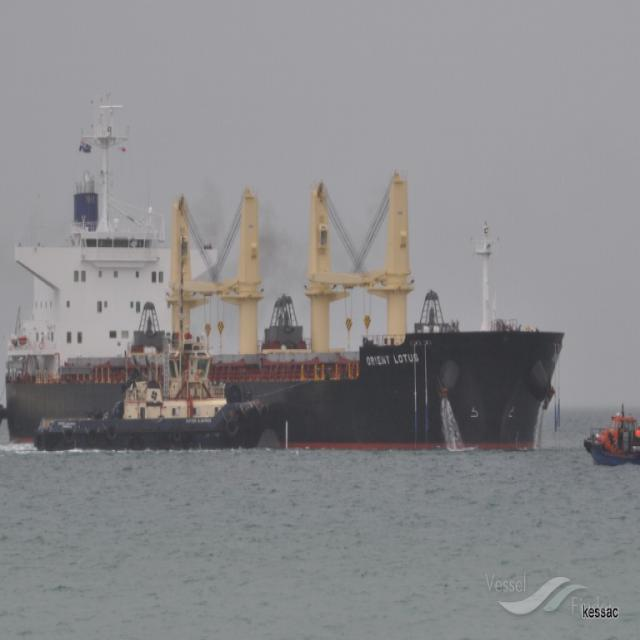Bulk Carrier: (7, 96, 566, 453)
tugboat: (34, 342, 266, 452), (583, 395, 640, 466)
